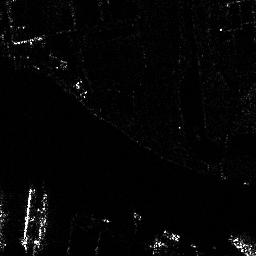ship: (18, 185, 35, 253)
